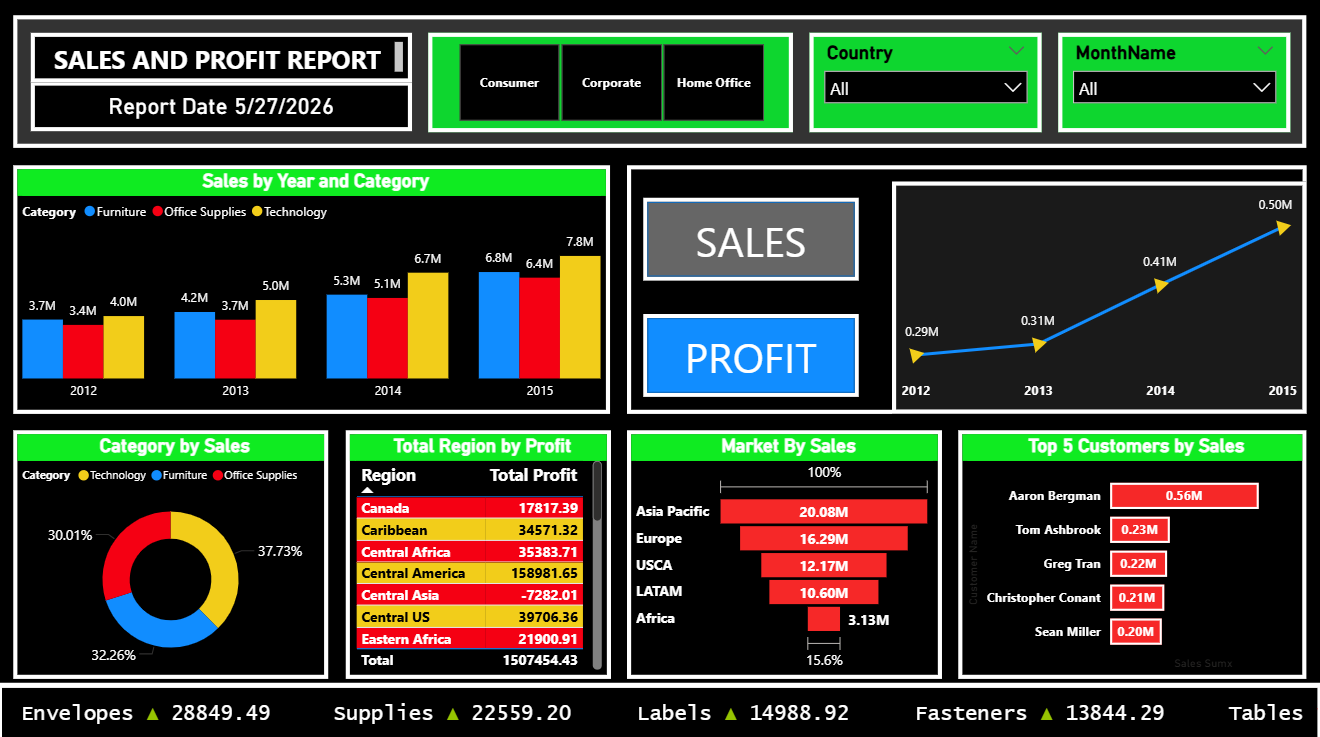

The page's visual inventory and layout, read from the dashboard file:
{"tool":"powerbi","page":{"name":"Report","canvas":[1280,720],"ordinal":0},"visuals":[{"type":"shape","box":[608,160,656,240],"z":0},{"type":"ScrollingTextVisual1448795304508","fields":{"Category":["Orders.Sub-Category"],"Measure Deviation":["Sum(Orders.Profit)"]},"box":[0,659.3,1279.7,60.6],"z":1000},{"type":"barChart","title":"Top 5 Customers by Sales ","fields":{"Category":["Orders.Customer Name"],"Y":["Date Table.Sumx"]},"box":[928,416,336,240],"z":2000},{"type":"funnel","title":"Market By Sales","fields":{"Category":["Orders.Market"],"Y":["Date Table.Sales Sumx"]},"box":[608,416,304,240],"z":3000},{"type":"tableEx","title":"Total Region by Profit","fields":{"Values":["Orders.Region","Sum(Orders.Profit)"]},"box":[336,416,256,240],"z":4000},{"type":"donutChart","title":"Category by Sales","fields":{"Category":["Orders.Category"],"Y":["Date Table.Sales Sumx"]},"box":[16,416,304,240],"z":5000},{"type":"clusteredColumnChart","title":"Sales by Year and Category","fields":{"Category":["Date Table.MonthInCalendar.Variation.Date Hierarchy.Year"],"Series":["Orders.Category"],"Y":["Date Table.Sales Sumx"]},"box":[16,160,576,240],"z":6000},{"type":"lineChart","fields":{"Category":["Date Table.MonthInCalendar.Variation.Date Hierarchy.Year"],"Y":["Sum(Orders.Profit)"]},"box":[864,176,400,224],"z":8000},{"type":"shape","title":"Profit_B","box":[624,304,208,80],"z":10000},{"type":"shape","title":"Sales_G","box":[624,192,208,80],"z":11000},{"type":"shape","box":[16,16,1248,128],"z":13000},{"type":"slicer","fields":{"Values":["Date Table.MonthName"]},"box":[1024,32,224,96],"z":14000},{"type":"slicer","fields":{"Values":["Orders.Country"]},"box":[784,32,224,96],"z":15000},{"type":"slicer","fields":{"Values":["Orders.Segment"]},"box":[416,32,352,96],"z":16000},{"type":"card","fields":{"Values":["Date Table.Report Date"]},"box":[32,80,368,48],"z":17000},{"type":"textbox","box":[32,32,368,48],"z":18000}]}

Visuals, with their boxes in screenshot pixels (x1, y1, x2, y2), scaled from the page's 1280x720 canvas onto the 1320x737 screenshot:
shape: <box>627,164,1304,409</box>
ScrollingTextVisual1448795304508 - Orders.Sub-Category x Sum(Orders.Profit): <box>0,675,1319,736</box>
"Top 5 Customers by Sales " barChart: <box>957,426,1304,671</box>
"Market By Sales" funnel: <box>627,426,940,671</box>
"Total Region by Profit" tableEx: <box>346,426,610,671</box>
"Category by Sales" donutChart: <box>16,426,330,671</box>
"Sales by Year and Category" clusteredColumnChart: <box>16,164,610,409</box>
lineChart - Date Table.MonthInCalendar.Variation.Date Hierarchy.Year x Sum(Orders.Profit): <box>891,180,1304,409</box>
"Profit_B" shape: <box>644,311,858,393</box>
"Sales_G" shape: <box>644,197,858,278</box>
shape: <box>16,16,1304,147</box>
slicer - Date Table.MonthName: <box>1056,33,1287,131</box>
slicer - Orders.Country: <box>808,33,1040,131</box>
slicer - Orders.Segment: <box>429,33,792,131</box>
card - Date Table.Report Date: <box>33,82,412,131</box>
textbox: <box>33,33,412,82</box>
